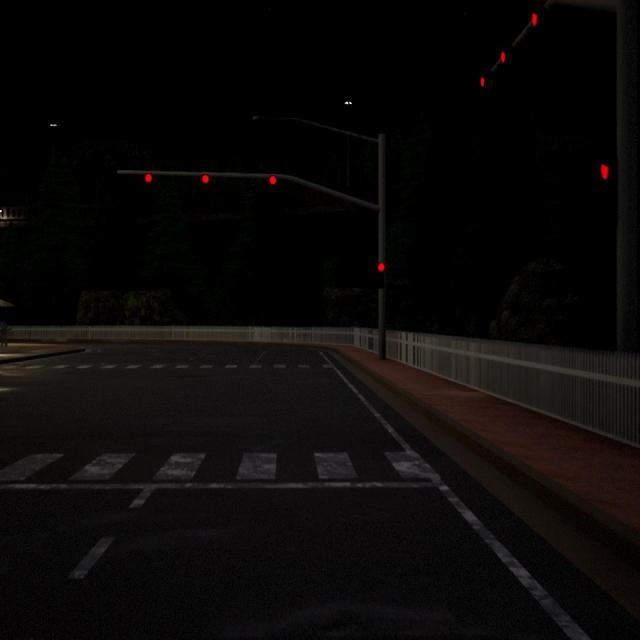traffic_light: (600, 160, 617, 208), (377, 263, 385, 287), (145, 172, 153, 185), (531, 13, 538, 26), (201, 174, 210, 184), (269, 175, 277, 186), (480, 77, 486, 87), (501, 51, 506, 63)
